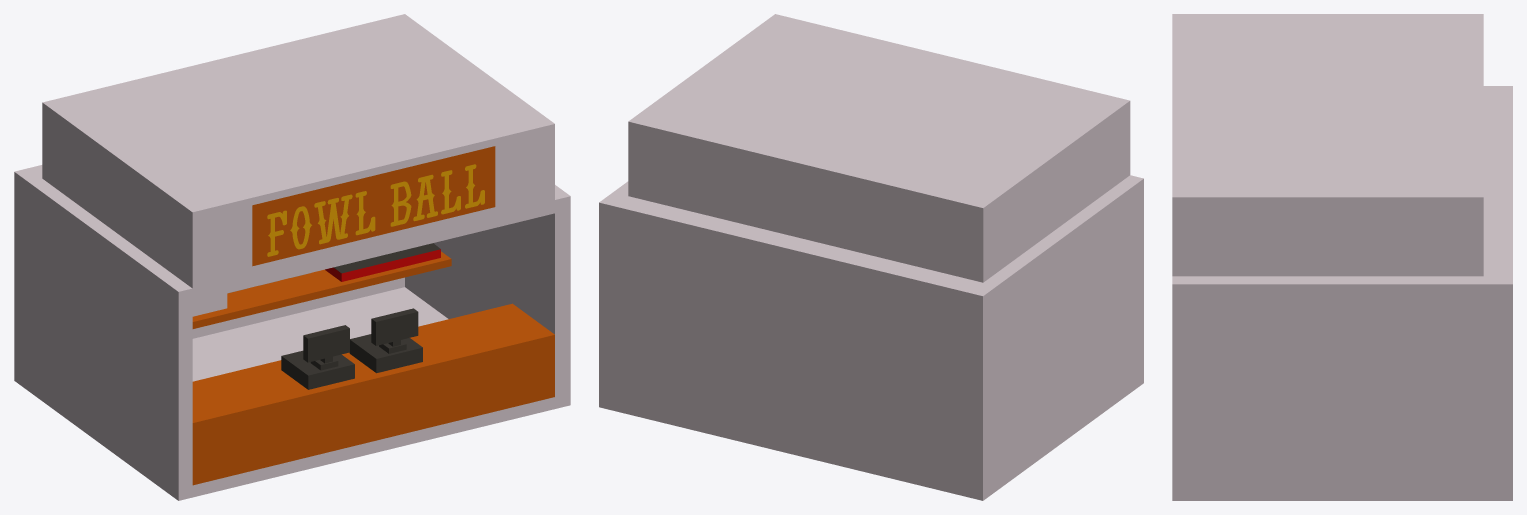
Rendered from ChickenStand.fbx.
3 renders of one model, left to right at view 1: azimuth 30°, elevation 25°; view 2: azimuth 150°, elevation 25°; view 3: azimuth 270°, elevation 25°, orthographic. The views are drawn at different scales.
Visible parts, largest first — view 1: Cube, Text; view 2: Cube; view 3: Cube.
Part boxes in pixels (box(x1,y1,x2,y2)): Cube: box(14, 14, 570, 500); Text: box(267, 164, 484, 256); Cube: box(599, 14, 1143, 500); Cube: box(1172, 14, 1512, 500).
Size of the model in its own units: 1707 by 1186 by 1239.
